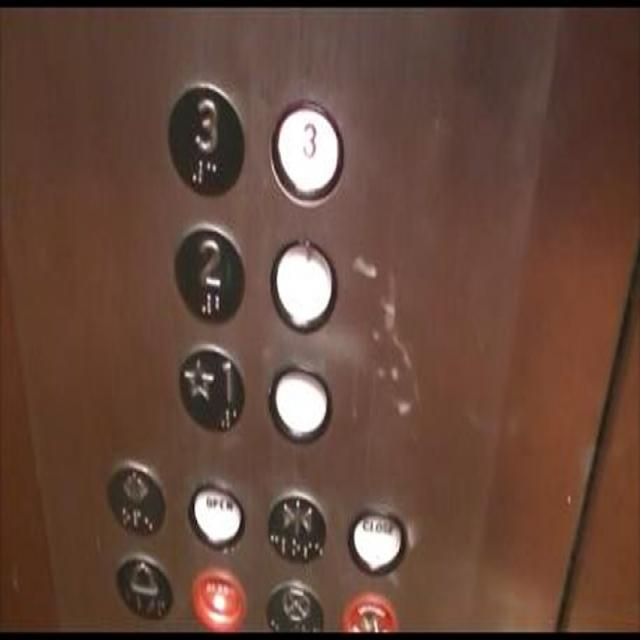2: (171, 218, 244, 326)
3: (167, 80, 245, 197), (267, 92, 344, 208)
alarm: (110, 550, 173, 622)
blur: (188, 564, 246, 635)
close: (265, 489, 327, 564)
empty: (268, 235, 337, 332), (268, 356, 330, 443)
open: (105, 457, 168, 540)
s1: (177, 340, 246, 432)
stop: (264, 578, 324, 638)
text_close door: (346, 500, 408, 575)
text_open door: (186, 475, 244, 549)
